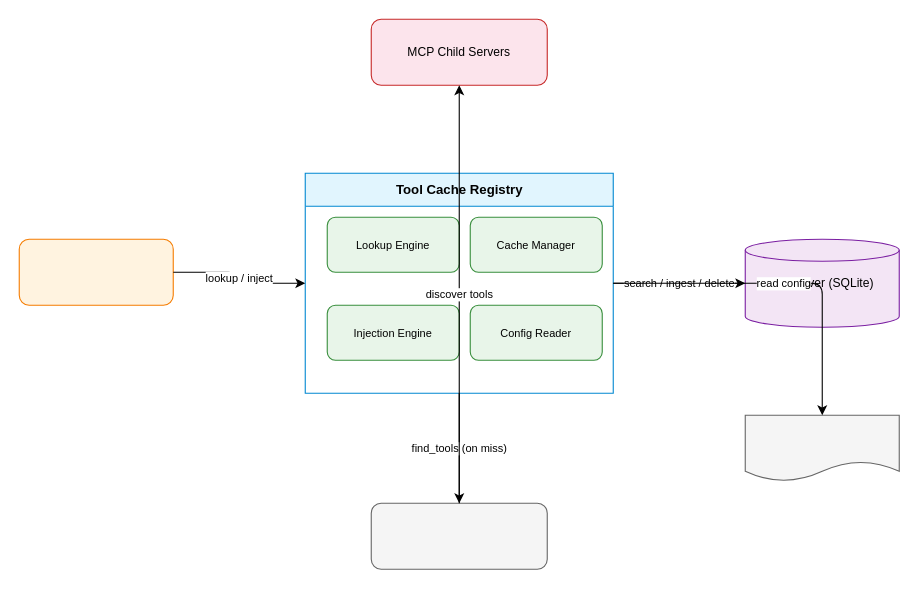
The diagram is 919 pixels wide and 589 high, and some of its shapes have lost their labels. The centre of each missing label's shape, as x and y in pixels:
AI Agents: point (95, 271)
orchestration.json: point (821, 447)
UnifiedRegistry: point (458, 535)
